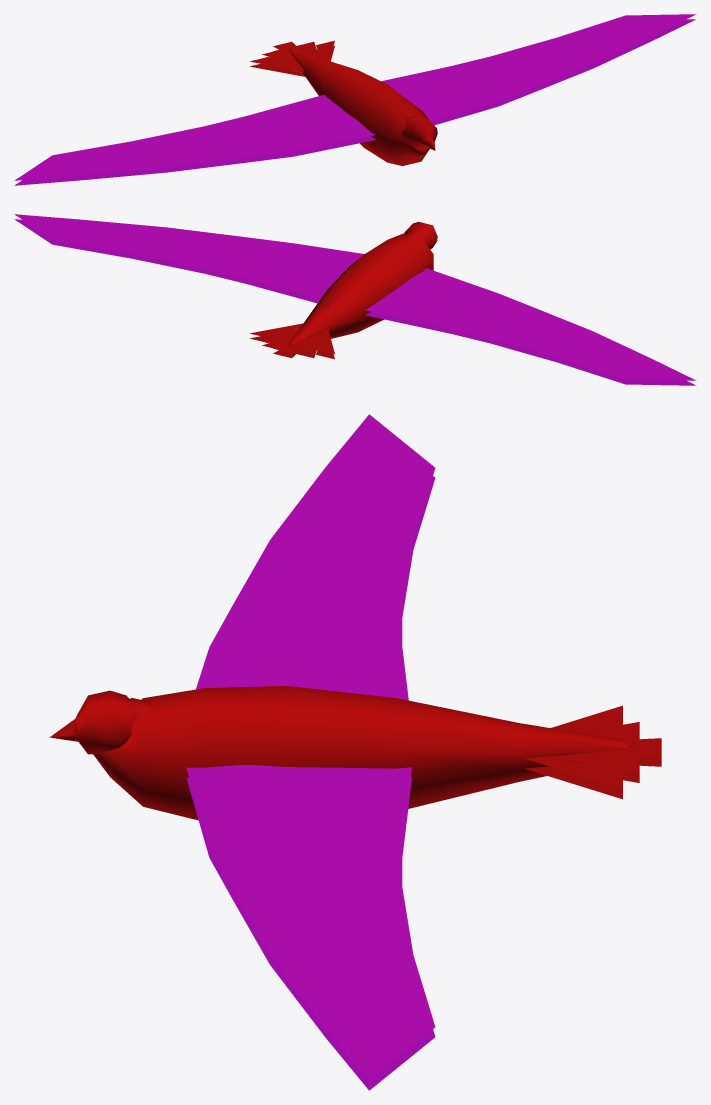
File: ivorygull.glb
3 renders of one model, top to bottom at view 1: azimuth 30°, elevation 25°; view 2: azimuth 150°, elevation 25°; view 3: azimuth 270°, elevation 25°, orthographic. The views are drawn at different scales.
Parts seen in each view (by area): view 1: bird; view 2: bird; view 3: bird.
Boxes of the visible parts, bbox=[...] form: bird: bbox=[14, 14, 695, 185]; bird: bbox=[14, 214, 695, 385]; bird: bbox=[49, 414, 661, 1090].
Size of the model in its own units: 1.12 by 0.0898 by 0.4336.
